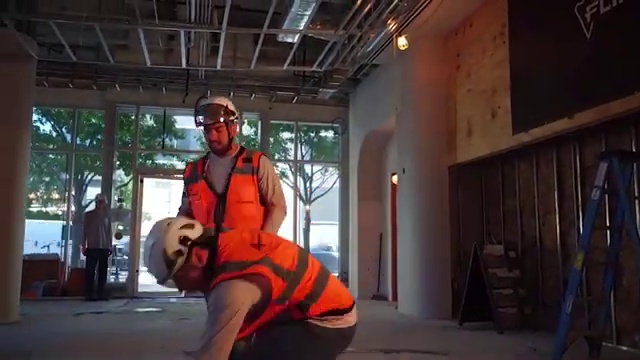helmet: (137, 218, 209, 287), (193, 97, 240, 124)
jacket: (214, 231, 357, 348), (177, 157, 317, 226)
